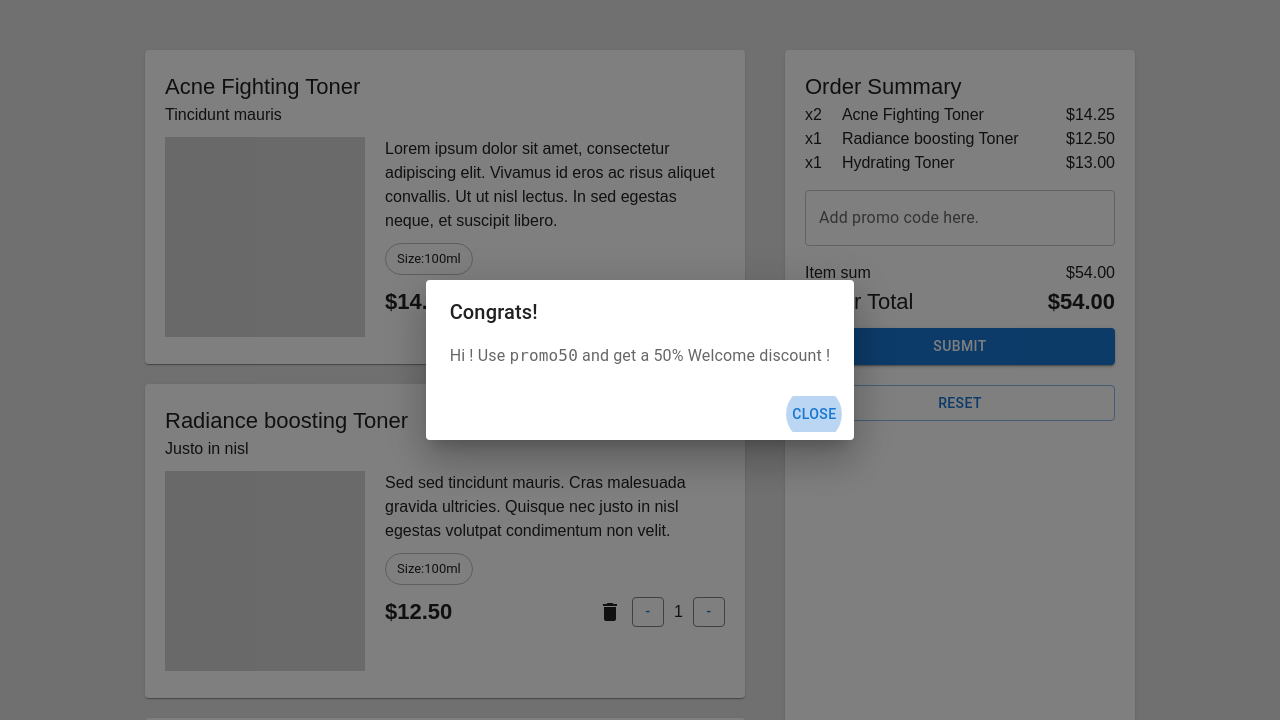
it: promo-code updating values › increment quantity of first item and check total x1
The image size is (1280, 720).
Click the button with test id "DialogCongratsWelcomePromo" at (814, 415), box [782,396,846,433]
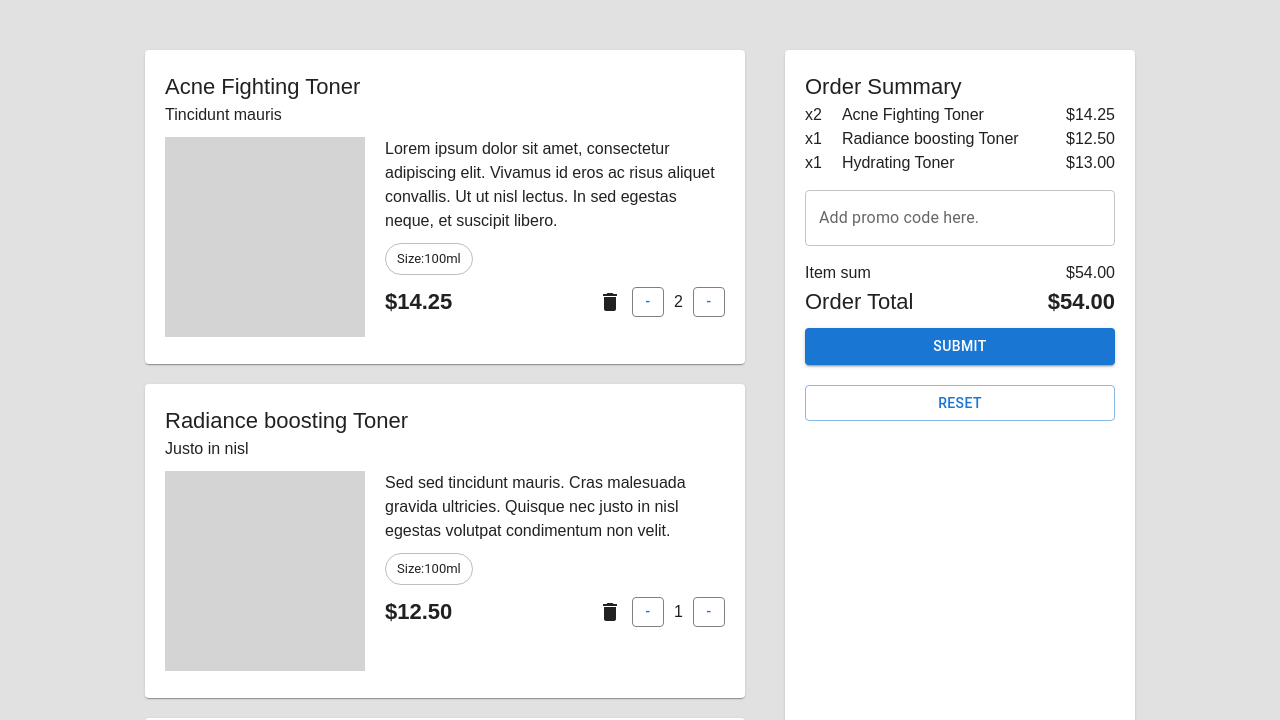
Click the 2nd button "-" at (709, 302), box [693,287,725,317]
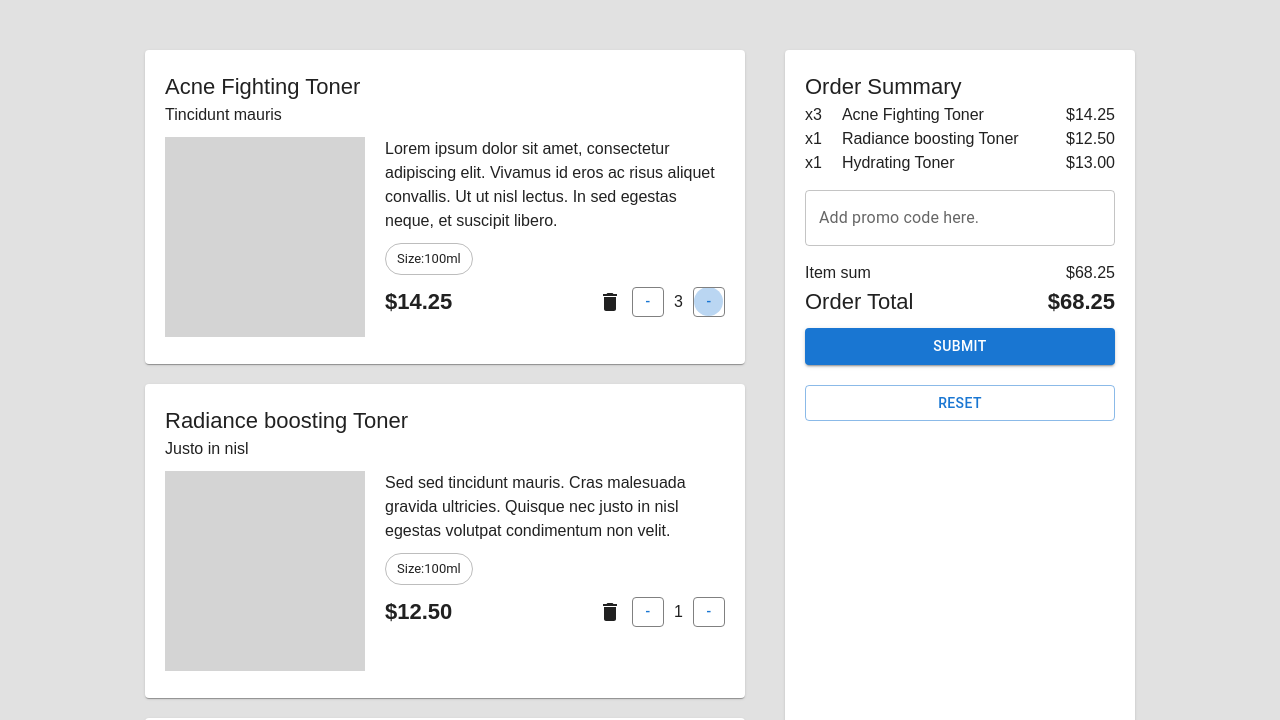
Check: the text with test id "cardOrderSummaryTotal" reads "$68.25", box [1048,285,1115,318]
